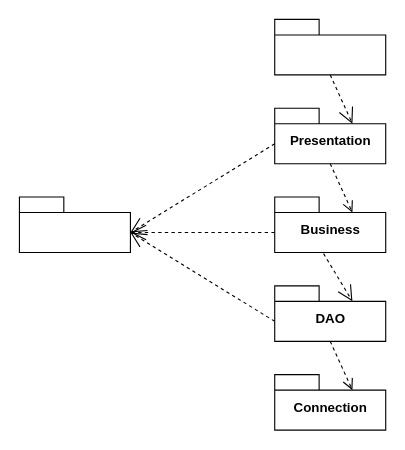
Some shapes in this 405 by 450 pixel diagram are drawn without their labels. The box of each missing label's shape, as (x1, y1, x2, y2) in pixels:
Model: (18, 196, 130, 253)
Start: (274, 18, 386, 75)
